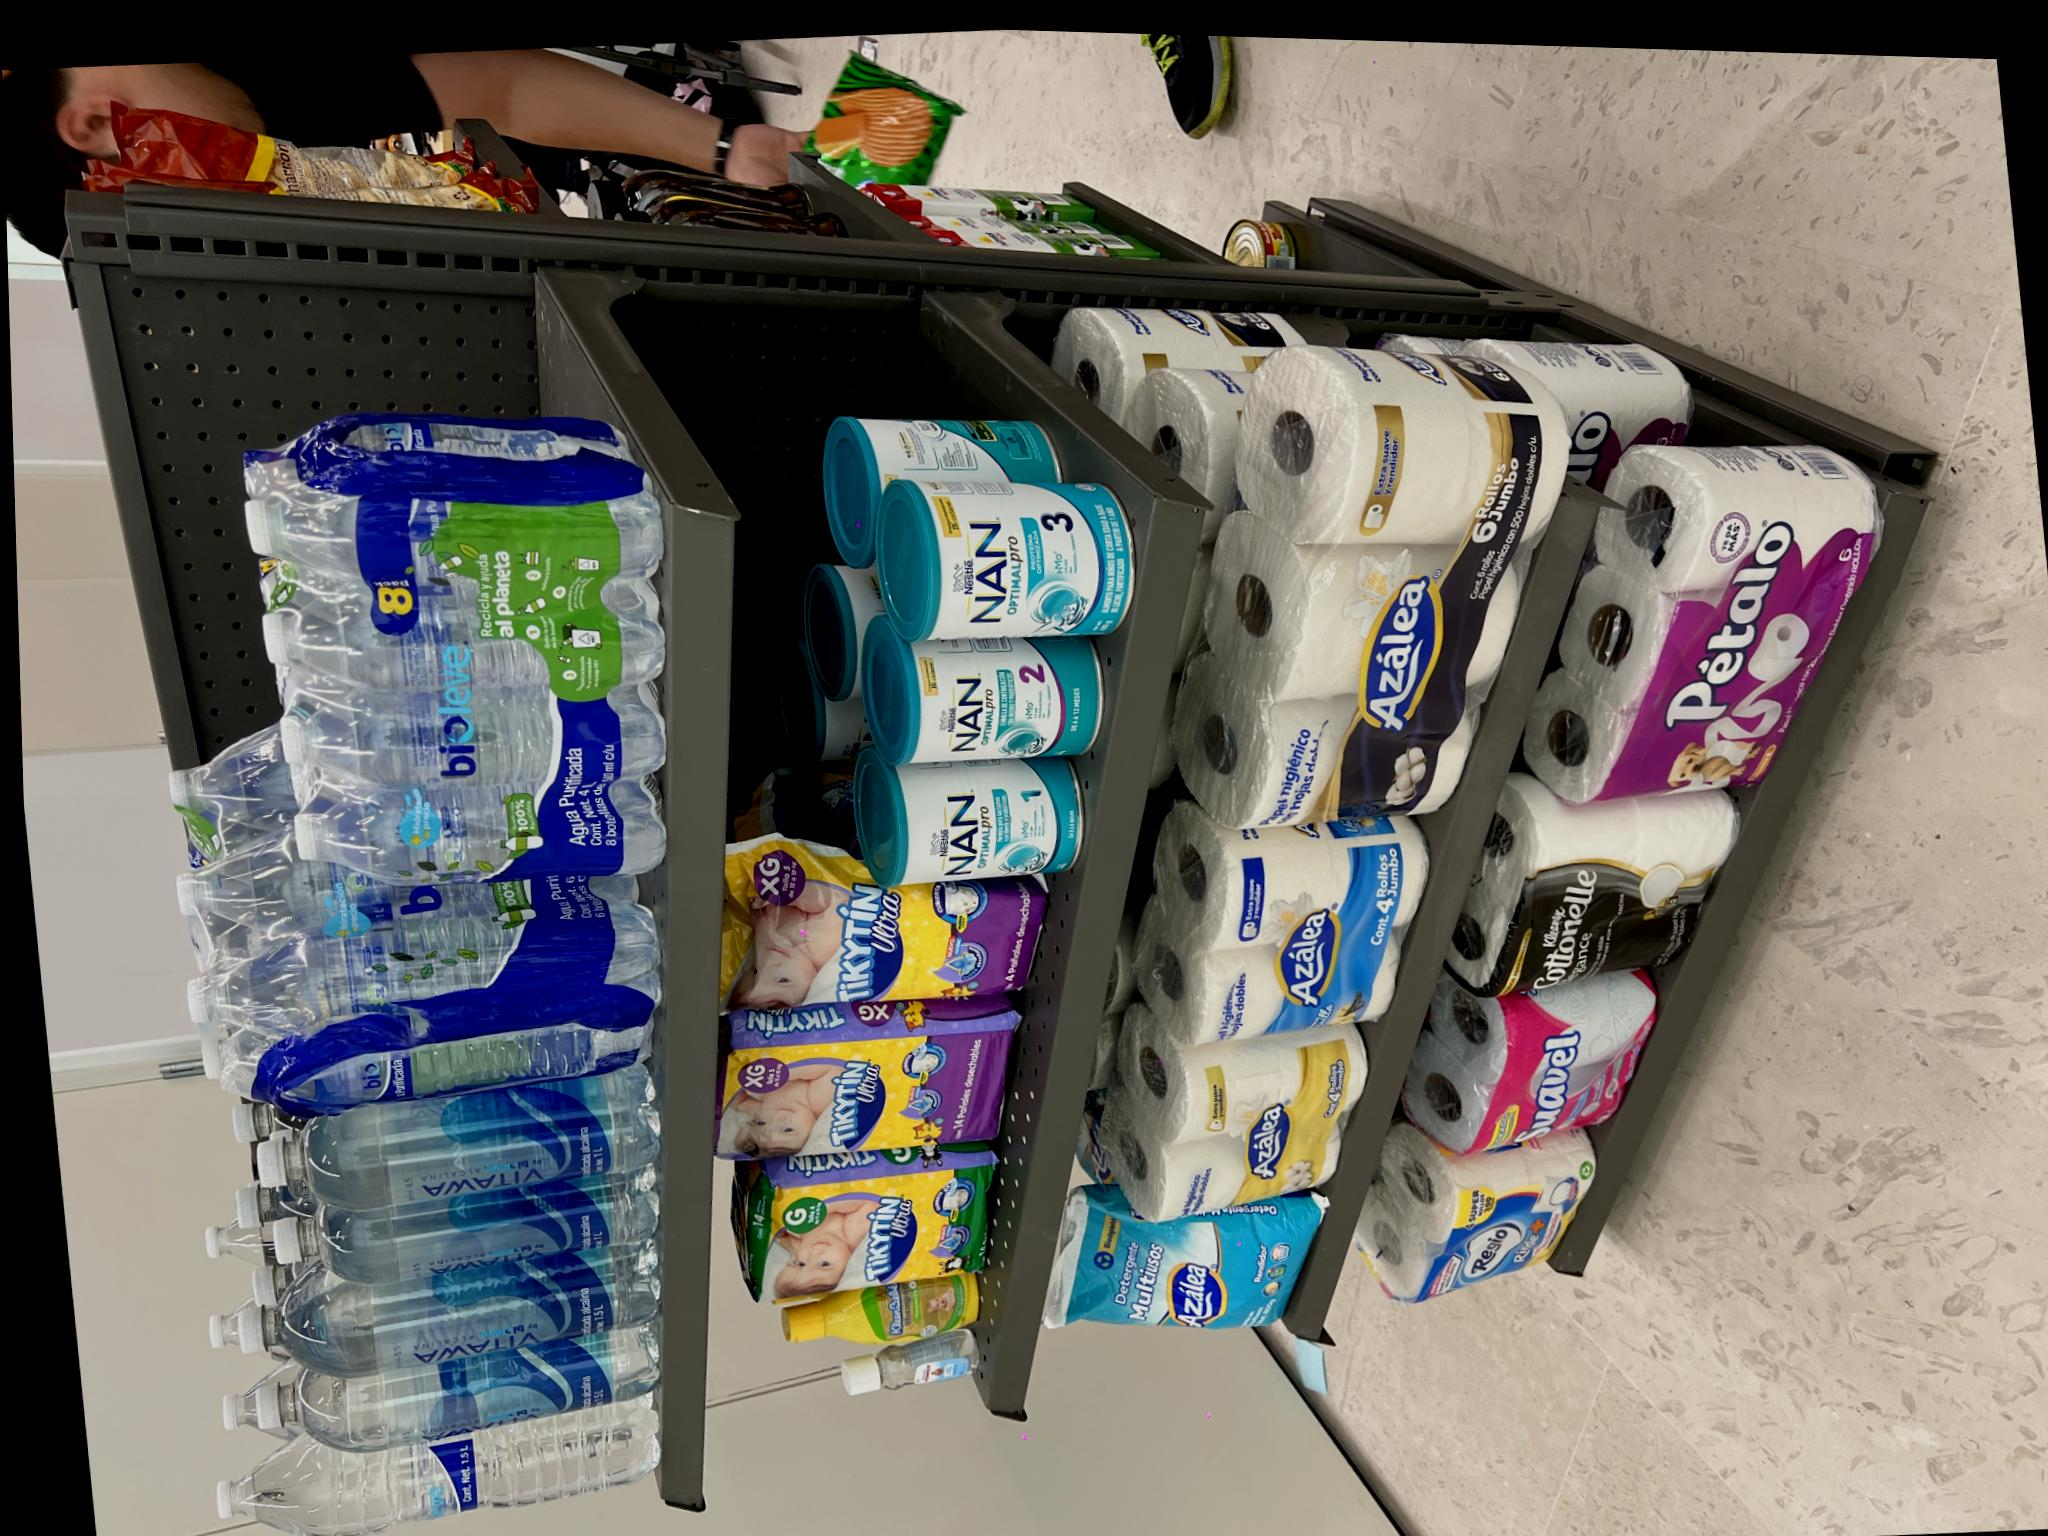aceite_bebe_mennen: (208, 824, 282, 966)
agua_bioleve: (10, 179, 184, 641)
agua_bioleve_6pack: (705, 284, 1114, 692), (455, 208, 710, 660)
agua_vitawa_1L: (355, 242, 529, 655), (264, 260, 427, 650)
agua_vitawa_1_5L: (177, 221, 350, 647), (118, 236, 271, 641)
detergente_azaela: (285, 1042, 414, 1313)
nan_nestle_1: (721, 894, 861, 1108)
nan_nestle_2: (845, 916, 980, 1129)
nan_nestle_3: (976, 931, 1127, 1189)
panales_tikytin_extragrande: (435, 712, 608, 1041), (577, 718, 731, 1060)
panales_tikytin_grande: (289, 742, 471, 994)
papelhigenico_azaela_6rollos: (801, 1262, 1188, 1536)
papelhigenico_azaela_amarillo: (400, 1154, 577, 1373)
papelhigenico_azaela_azul: (579, 1202, 795, 1449)
papelhigenico_kleenex_cottonelle: (651, 1494, 761, 1536)
papelhigenico_regio: (335, 1397, 479, 1536)
papelhigenico_suavel: (490, 1454, 629, 1536)
shampoo_bebe: (240, 768, 339, 971)
